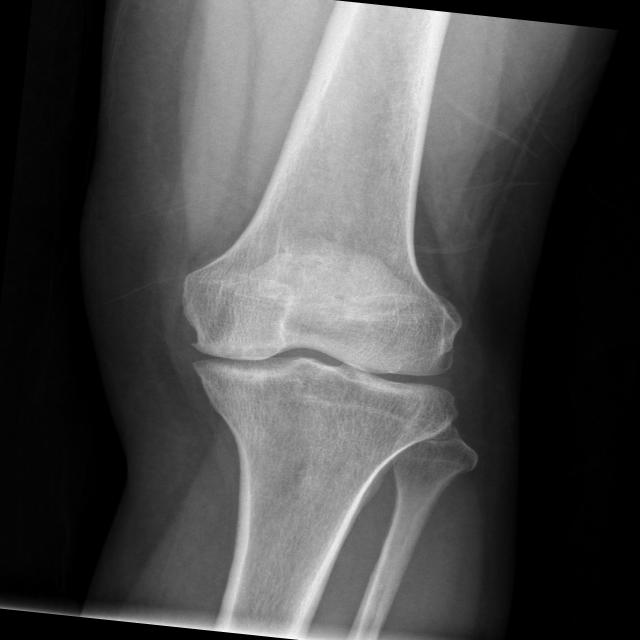Knee: (167, 233, 477, 460)
